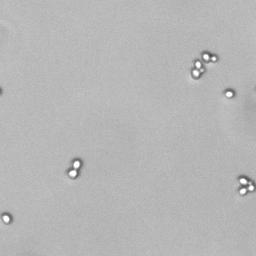budding: (65, 157, 83, 179), (191, 59, 205, 81), (202, 52, 218, 62)
cluster: (237, 175, 256, 197)
individual: (224, 88, 236, 99), (1, 212, 12, 223)
